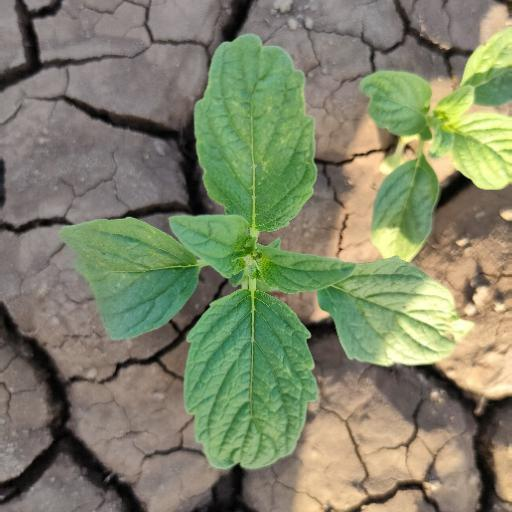crop: (59, 47, 472, 467), (346, 24, 511, 261)
